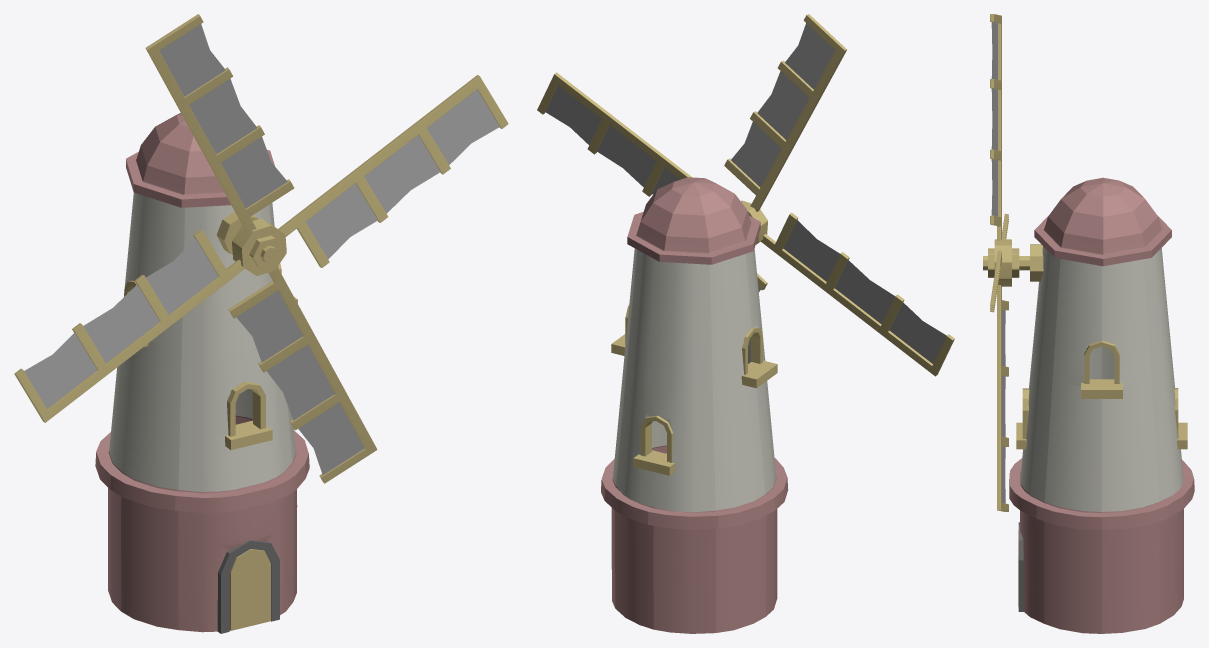
The model's file is windmill.fbx.
3 renders of one model, left to right at view 1: azimuth 30°, elevation 25°; view 2: azimuth 150°, elevation 25°; view 3: azimuth 270°, elevation 25°, orthographic. The views are drawn at different scales.
Parts seen in each view (by area): view 1: polySurface3, polySurface2, polySurface4, polySurface1, pPlane4, pPlane2, pPlane1, pPlane3, pSphere1, pCylinder2, pPipe1, pPipe4 (+2 smaller); view 2: polySurface3, polySurface2, pSphere1, polySurface4, pPlane3, pPlane4, polySurface1, pPlane2, pPipe2, pCube8, pCube7, pPipe6; view 3: polySurface3, polySurface2, pSphere1, polySurface1, pPlane3, pCube9, pPlane1, pPipe4, pPipe7, pCylinder5, pPipe1, polySurface4 (+2 smaller).
Part boxes in pixels (bbox=[...]): polySurface3: bbox=[109, 192, 295, 491]; polySurface2: bbox=[95, 415, 309, 632]; polySurface4: bbox=[14, 75, 508, 422]; polySurface1: bbox=[145, 14, 377, 483]; pPlane4: bbox=[24, 238, 218, 408]; pPlane2: bbox=[306, 89, 499, 259]; pPlane1: bbox=[236, 290, 364, 474]; pPlane3: bbox=[159, 24, 287, 208]; pSphere1: bbox=[126, 113, 274, 207]; pCylinder2: bbox=[229, 549, 270, 630]; pPipe1: bbox=[217, 540, 279, 633]; pPipe4: bbox=[232, 218, 286, 275]; polySurface3: bbox=[613, 248, 776, 512]; polySurface2: bbox=[601, 445, 788, 633]; pSphere1: bbox=[627, 177, 760, 264]; polySurface4: bbox=[537, 72, 954, 376]; pPlane3: bbox=[731, 23, 835, 187]; pPlane4: bbox=[783, 220, 946, 363]; polySurface1: bbox=[724, 14, 846, 290]; pPlane2: bbox=[545, 85, 679, 194]; pPipe2: bbox=[640, 415, 673, 462]; pCube8: bbox=[633, 450, 675, 475]; pCube7: bbox=[741, 360, 777, 388]; pPipe6: bbox=[742, 327, 762, 374]; polySurface3: bbox=[1021, 246, 1182, 511]; polySurface2: bbox=[1009, 458, 1194, 633]; pSphere1: bbox=[1034, 177, 1171, 266]; polySurface1: bbox=[990, 14, 1008, 511]; pPlane3: bbox=[991, 22, 997, 216]; pCube9: bbox=[1081, 379, 1122, 398]; pPlane1: bbox=[1002, 309, 1005, 503]; pPipe4: bbox=[994, 239, 1011, 286]; pPipe7: bbox=[1084, 341, 1119, 383]; pCylinder5: bbox=[1030, 244, 1043, 281]; pPipe1: bbox=[1018, 522, 1024, 611]; polySurface4: bbox=[990, 213, 1008, 312].
Bounding box in the file's own units: 19.08 × 24.08 × 8.29.
